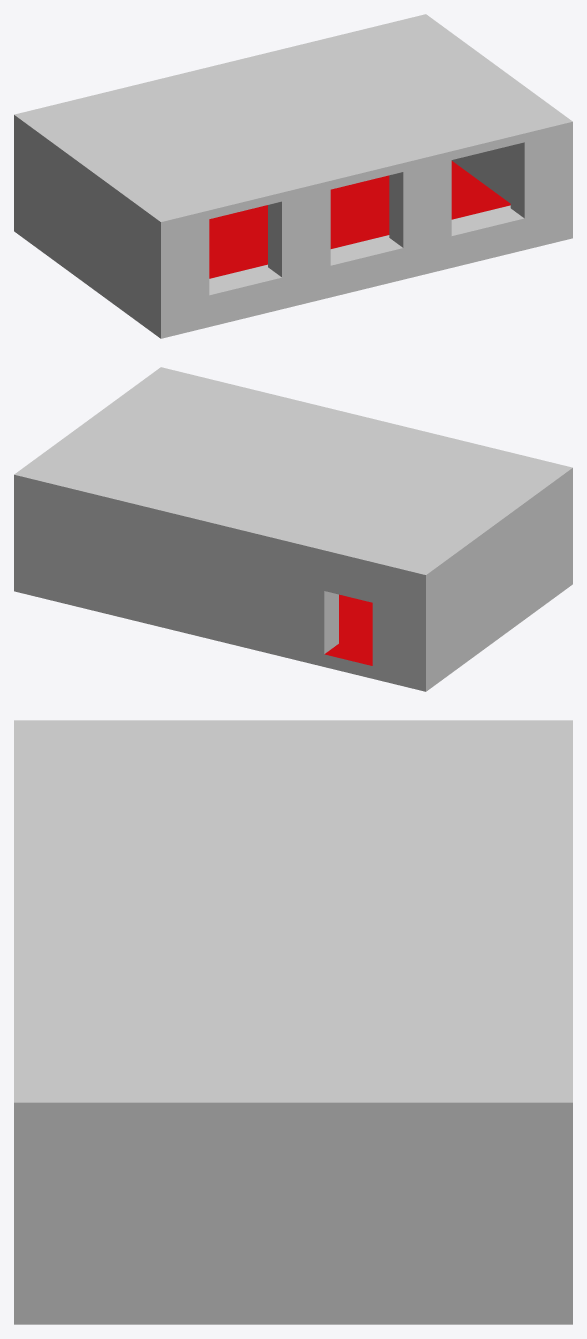
The model's file is Mathf.fbx.
3 views of the same model, one above another, from view 1: azimuth 30°, elevation 25°; view 2: azimuth 150°, elevation 25°; view 3: azimuth 270°, elevation 25° (orthographic). The views are drawn at different scales.
Visible parts, largest first — view 1: 316.002; view 2: 316.002; view 3: 316.002.
Boxes of the visible parts, bbox=[...] form: 316.002: bbox=[14, 14, 572, 338]; 316.002: bbox=[14, 367, 572, 691]; 316.002: bbox=[14, 720, 572, 1324].
Size of the model in its own units: 1700 by 460 by 1050.
